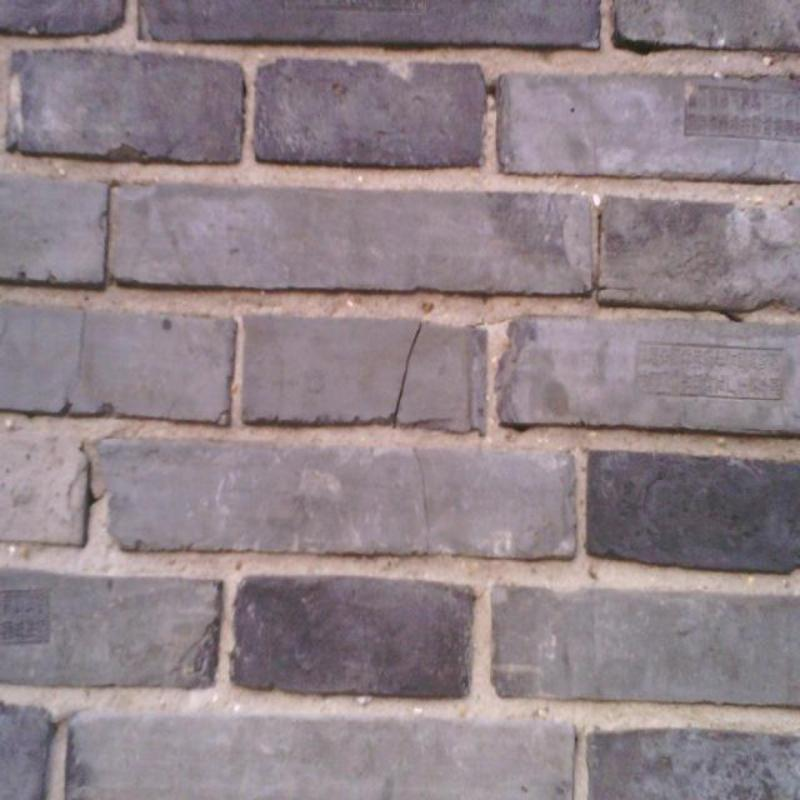crack: (393, 323, 423, 430), (411, 450, 430, 533), (720, 310, 742, 322)
